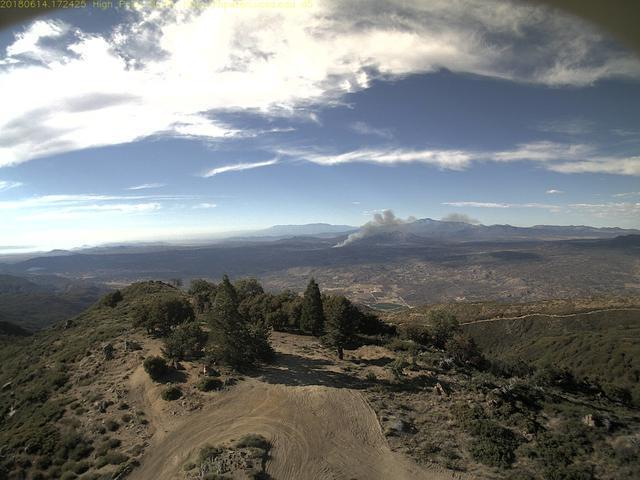Smoke: (327, 205, 482, 250)
